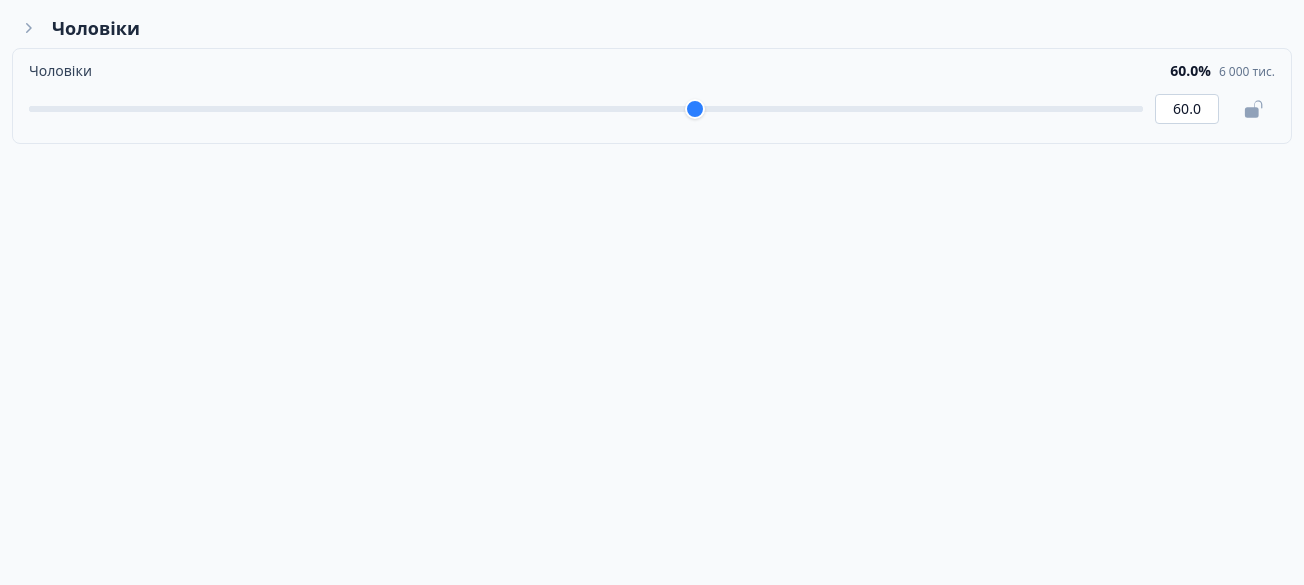
Test case: TreePanel deviation warnings › shows deviation warning in free mode when industries do not sum to 100%
// Expand industries to see deviation warning
Click the button with aria-label "expand чоловіки": (96, 28) [12,12,1292,44]
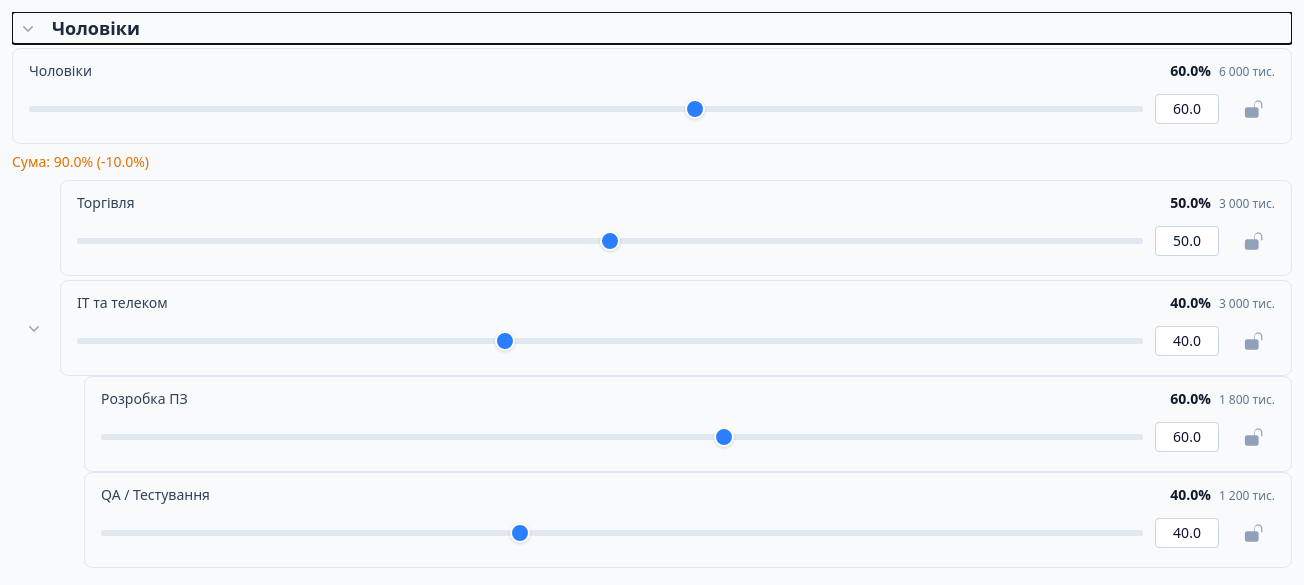
Now the message reads "Сума: 90.0% (-10.0%)", box [12,152,149,171]
